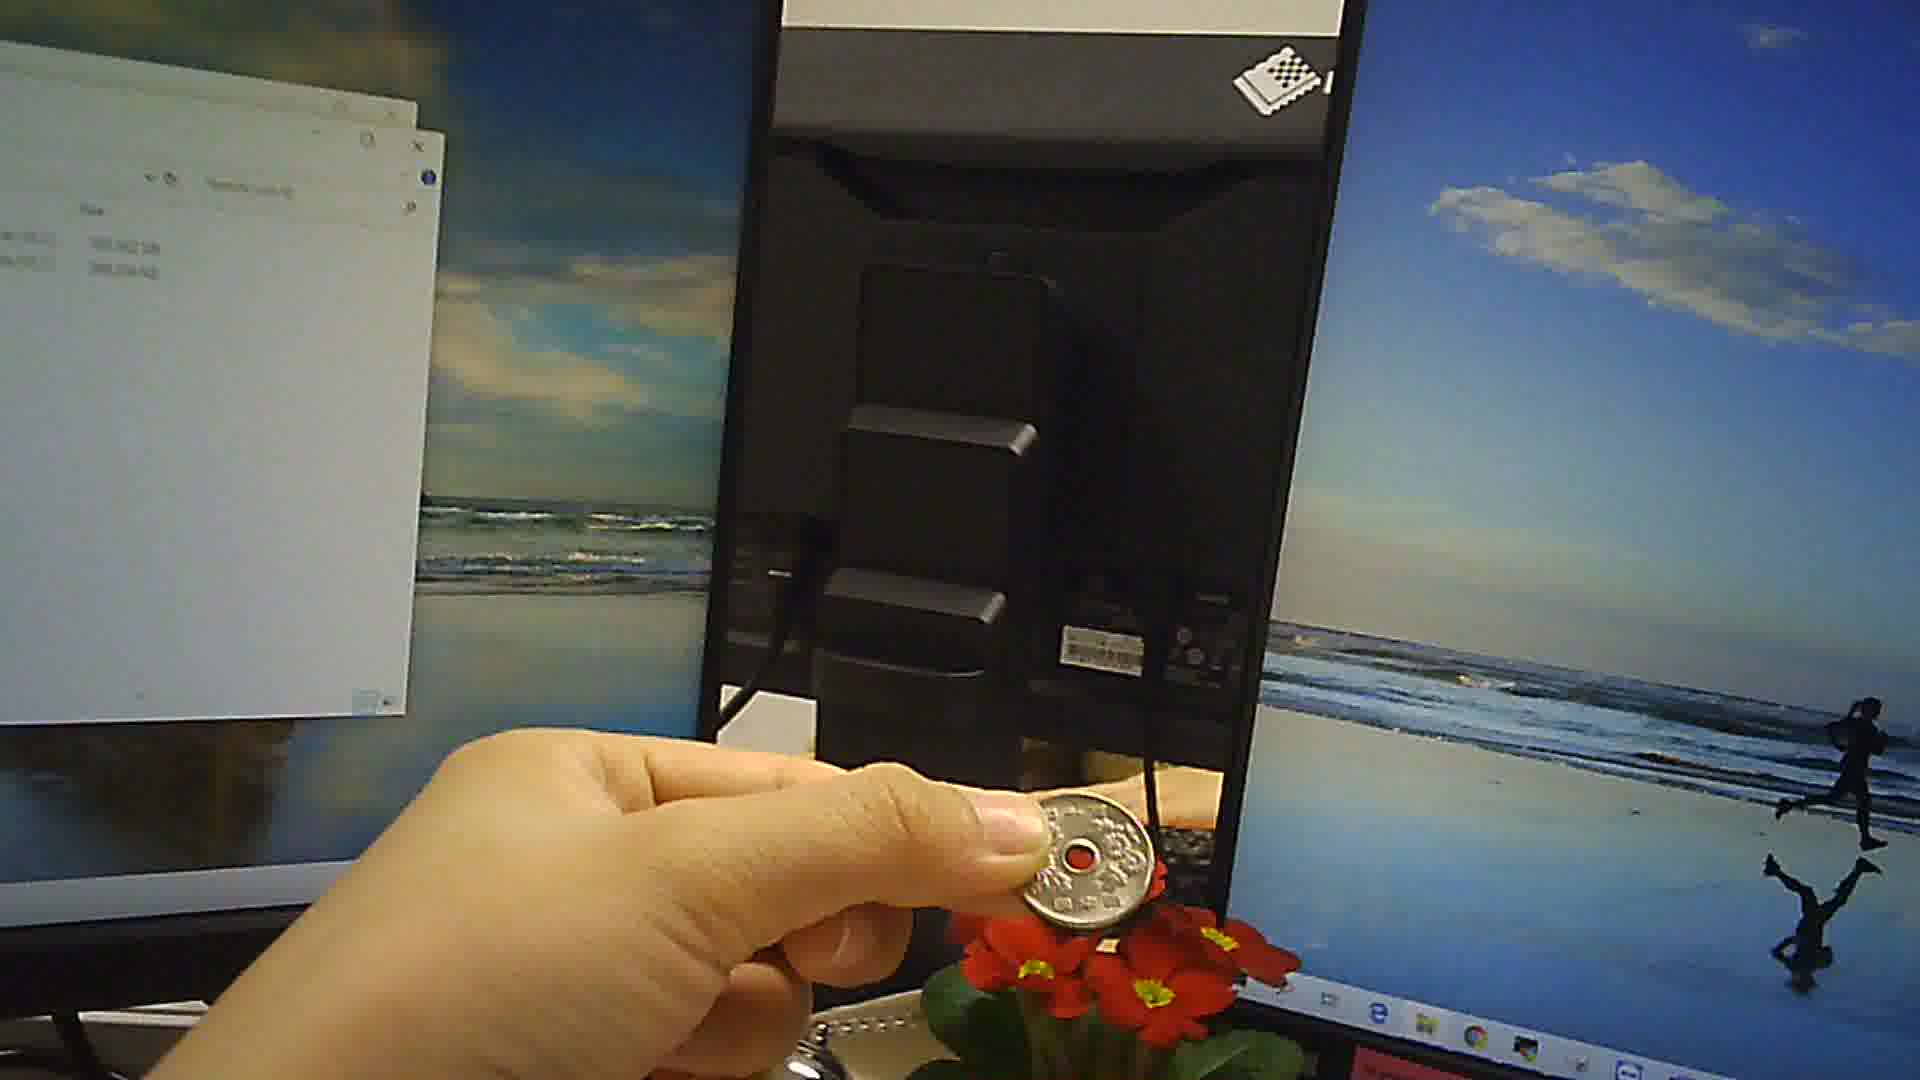50 Yen: (1015, 785, 1163, 934)
